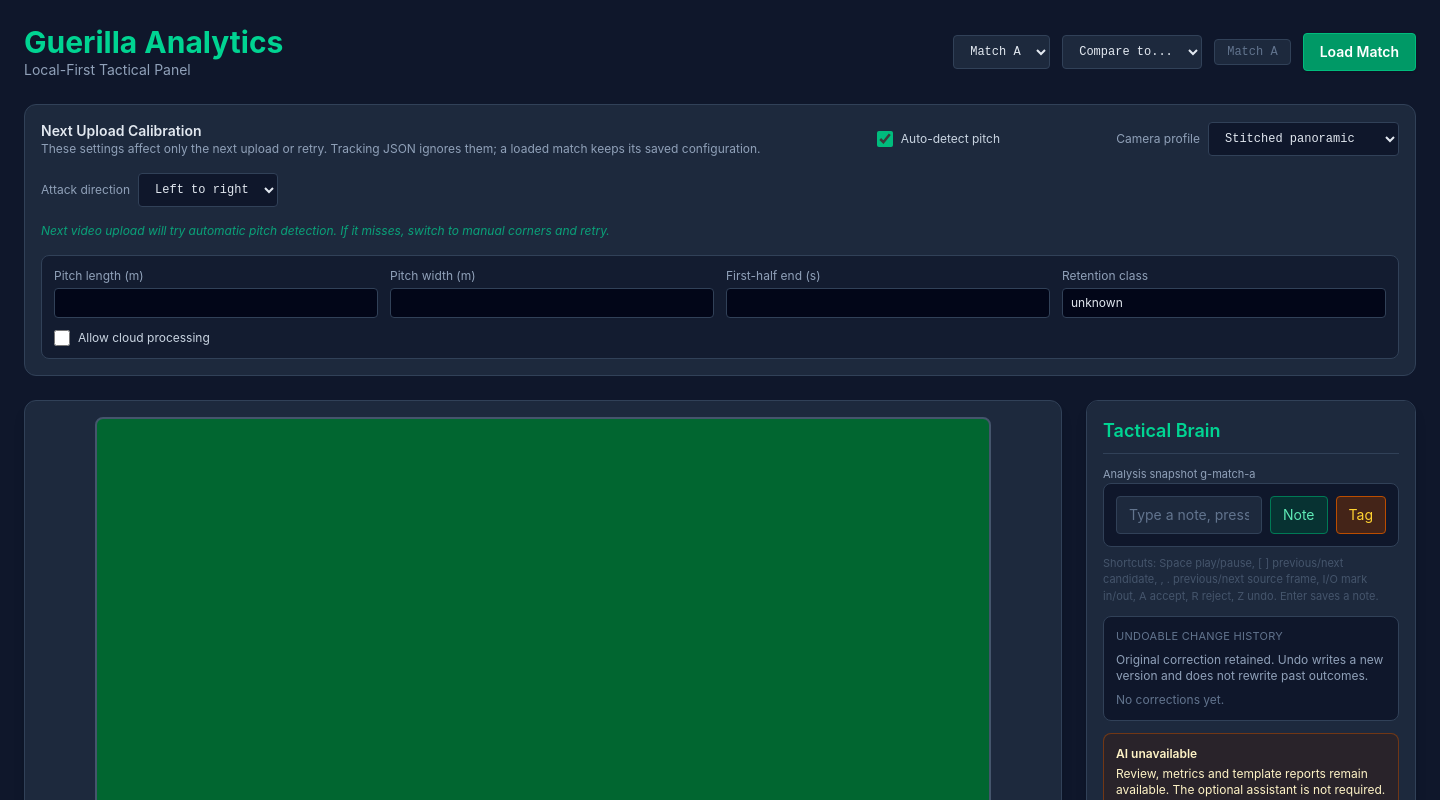
it: App match workspace loading › keeps the active match and choices usable after another match fails to load
Check: the text "Match A" is shown, box 1214,39 -> 1291,65
Select "Match B" in the dropdown named "Active match" at (1002, 52), box 953,35 -> 1050,69
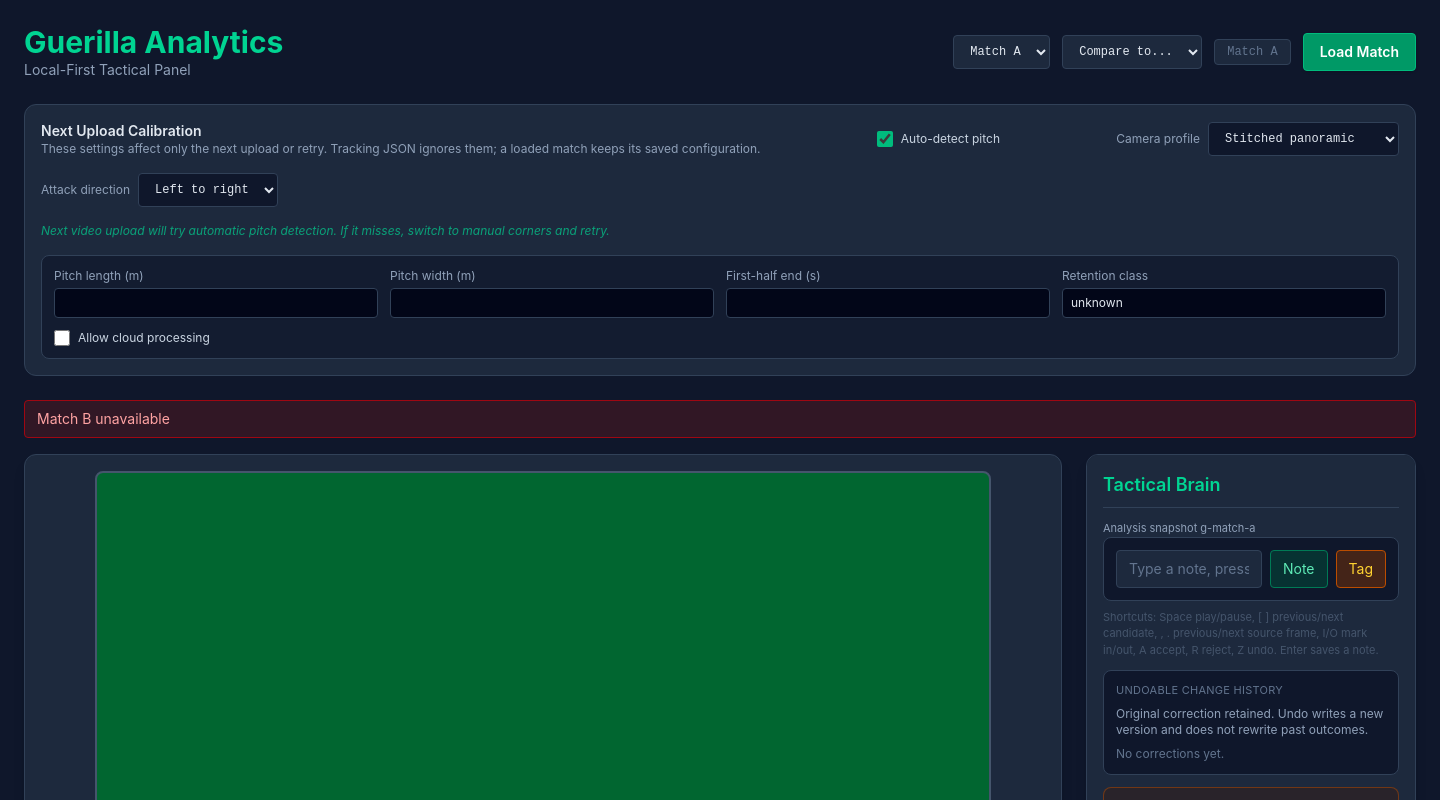
Check: the text "Match A" is shown, box 1214,39 -> 1291,65
Check: the message reads "Match B unavailable", box 37,410 -> 170,427
Select "Match C" in the dropdown named "Active match" at (1002, 52), box 953,35 -> 1050,69
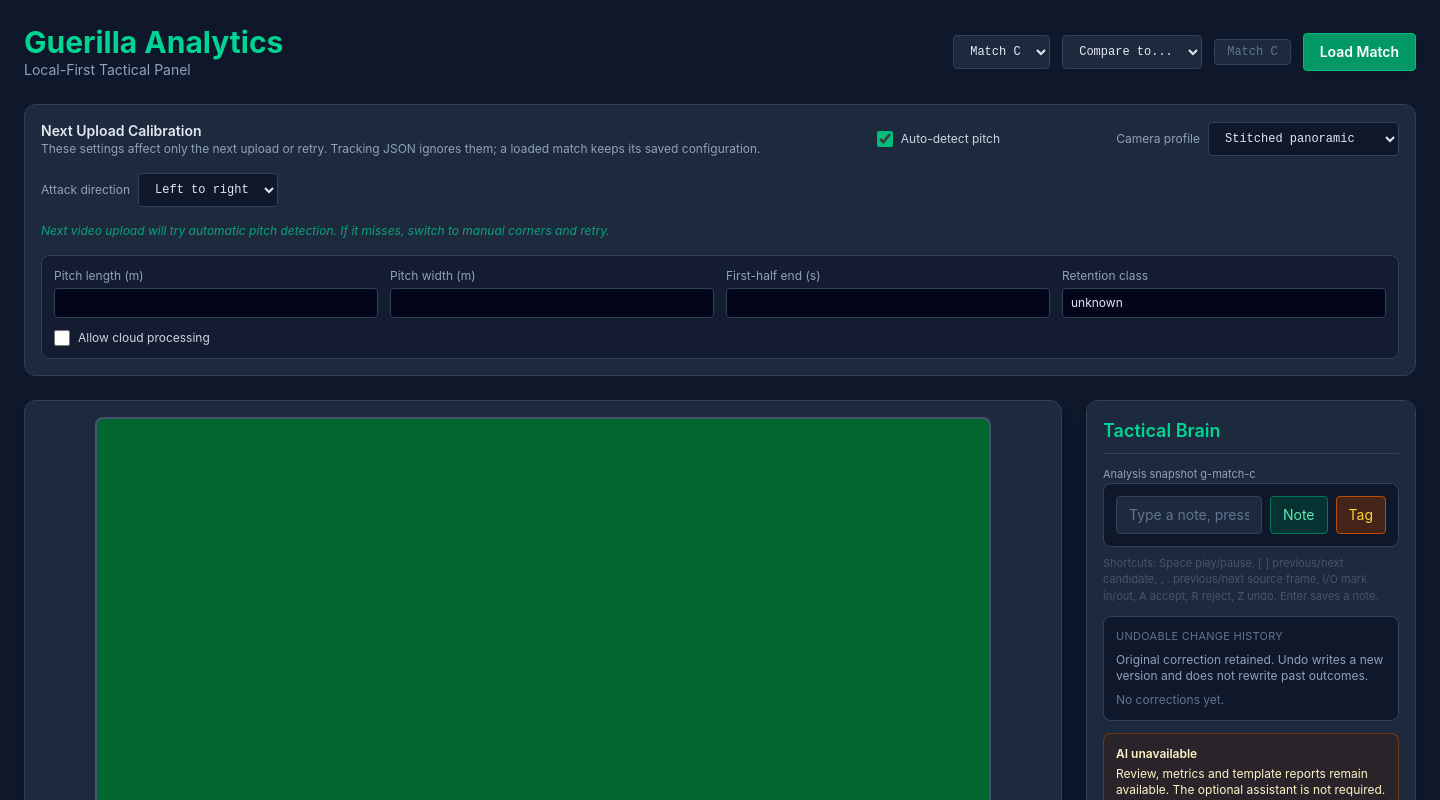
Check: the text "Match C" is shown, box 1214,39 -> 1291,65
Check: the text "Match B unavailable" is gone
